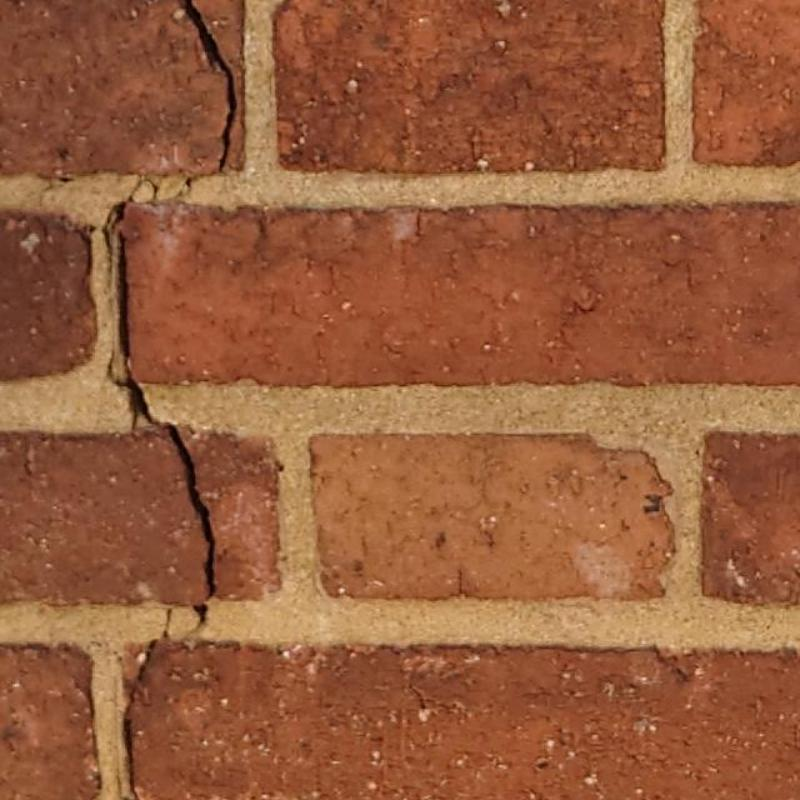pothole: (102, 169, 220, 292), (106, 231, 160, 435), (182, 0, 238, 168), (165, 425, 217, 600), (123, 640, 158, 799), (181, 603, 208, 639), (164, 606, 173, 635)
